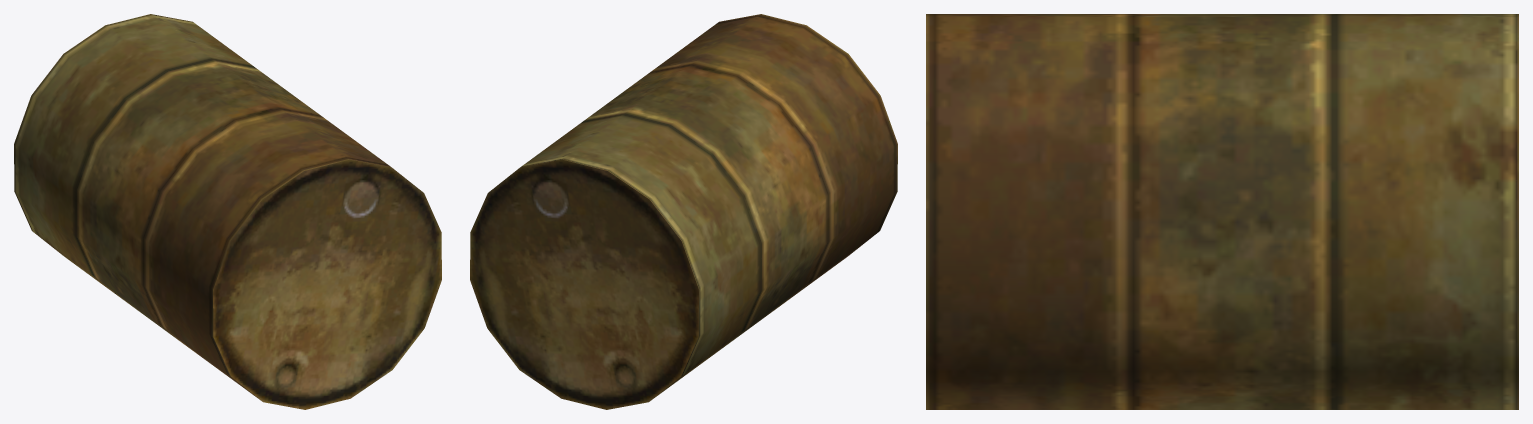
The model's file is od_single_on_side_orange.fbx.
3 views of the same model, side by side, from view 1: azimuth 30°, elevation 25°; view 2: azimuth 150°, elevation 25°; view 3: azimuth 270°, elevation 25° (orthographic). The views are drawn at different scales.
Parts seen in each view (by area): view 1: mesh_0; view 2: mesh_0; view 3: mesh_0.
Part boxes in pixels (x1,y1,x2,y2): mesh_0: [14, 14, 441, 409]; mesh_0: [470, 14, 897, 409]; mesh_0: [926, 14, 1518, 409].
Size of the model in its own units: 58.59 by 58.59 by 88.26.
Materials: 1 (1 with a texture image).
